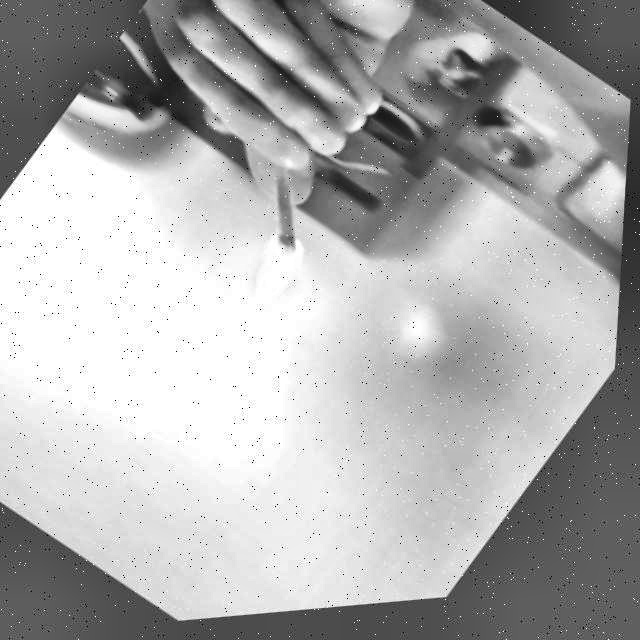Fire: (226, 220, 328, 333)
